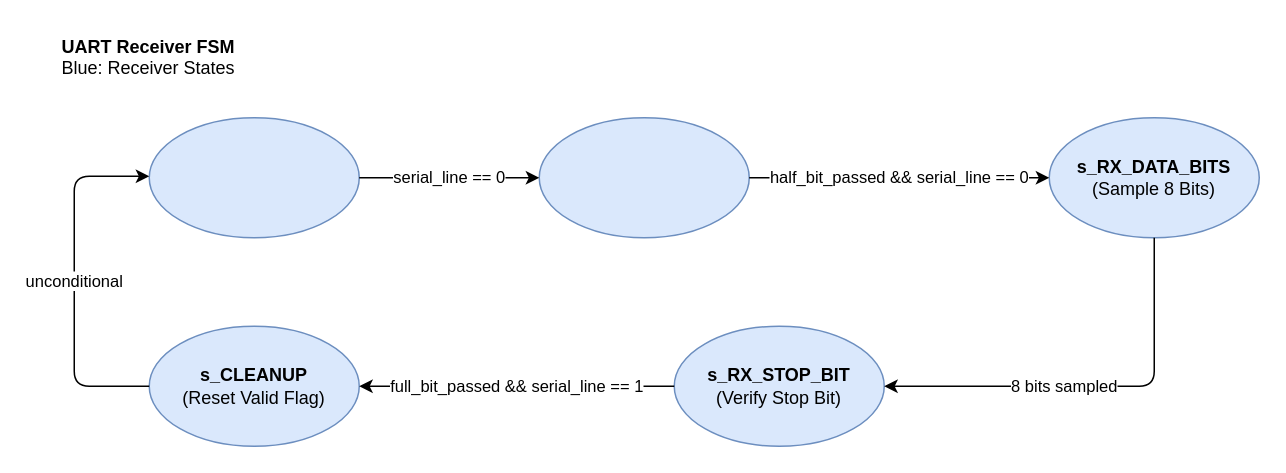
This 1286x473 diagram has some shape labels left out. Each missing label, with the centre of its shape:
"s_IDLE (Wait for Start Bit)" goes at point (253, 177).
"s_RX_START_BIT (Verify Start Bit)" goes at point (643, 177).
